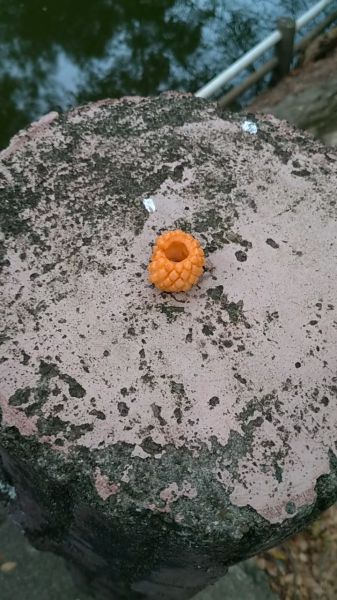eggs: (147, 224, 209, 297)
